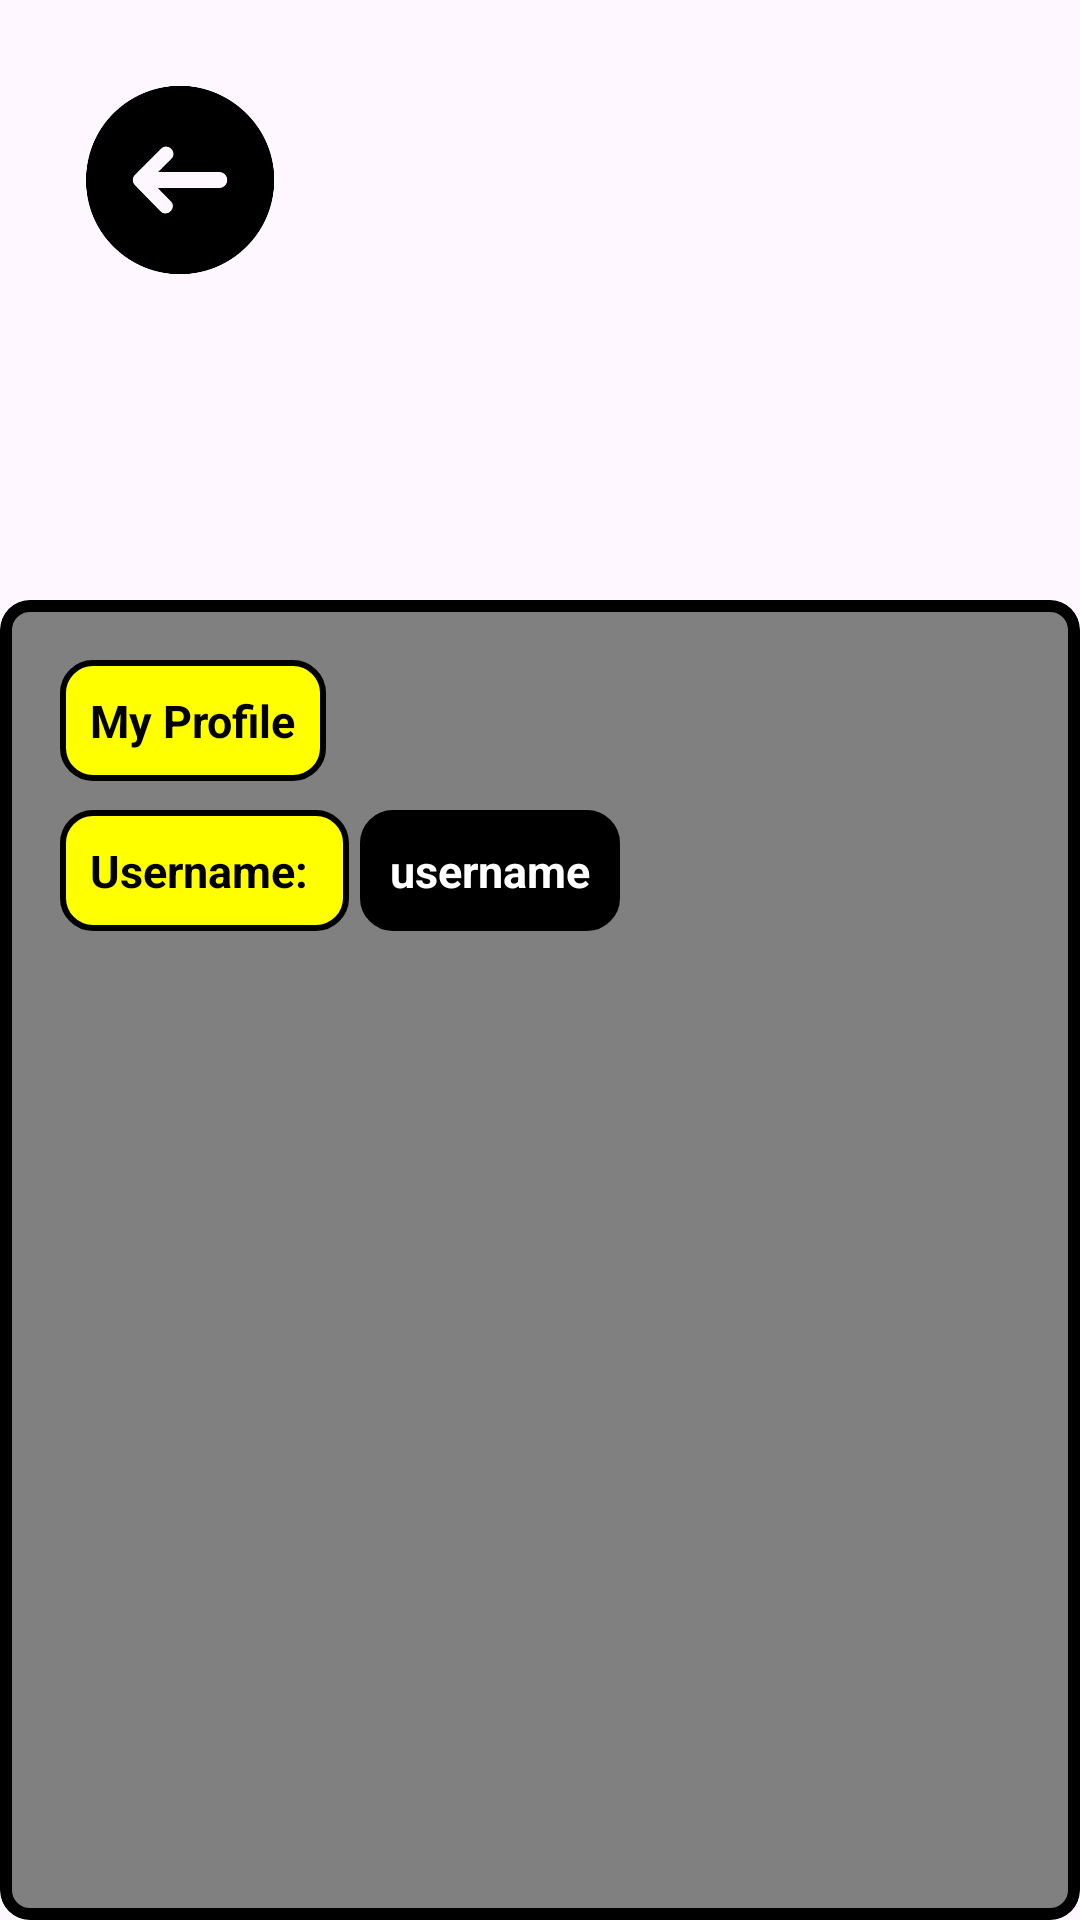

Icons on this 1080x1920 Android screen, each with the point to tap as (x=x, y=y):
arrow back: (x=180, y=180)
